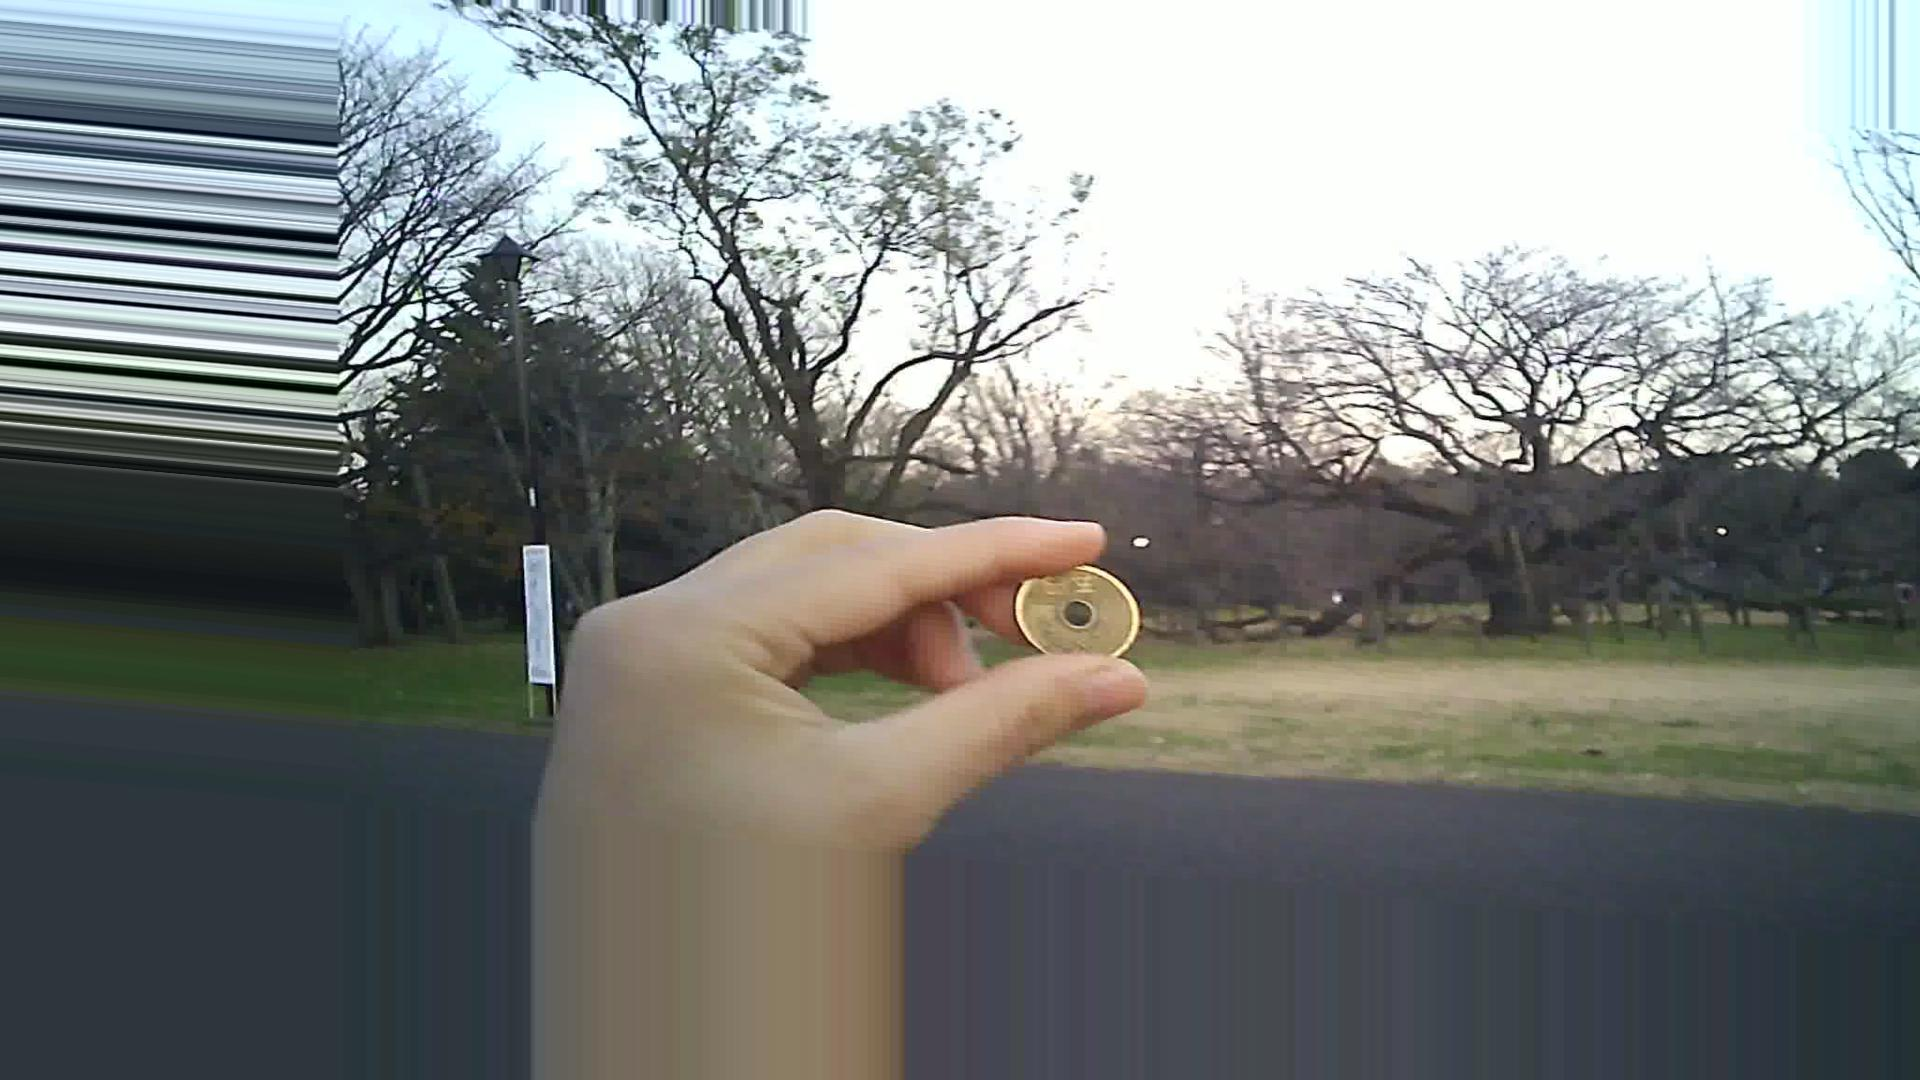5 Yen: (1004, 545, 1146, 671)
